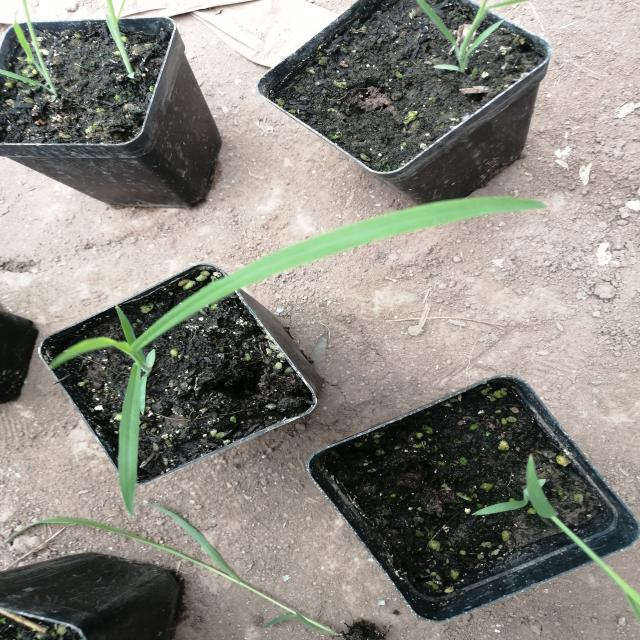crabgrass: (28, 163, 533, 485)
